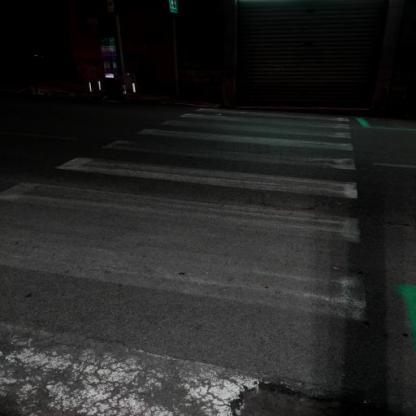crosswalk: (49, 136, 361, 208)
